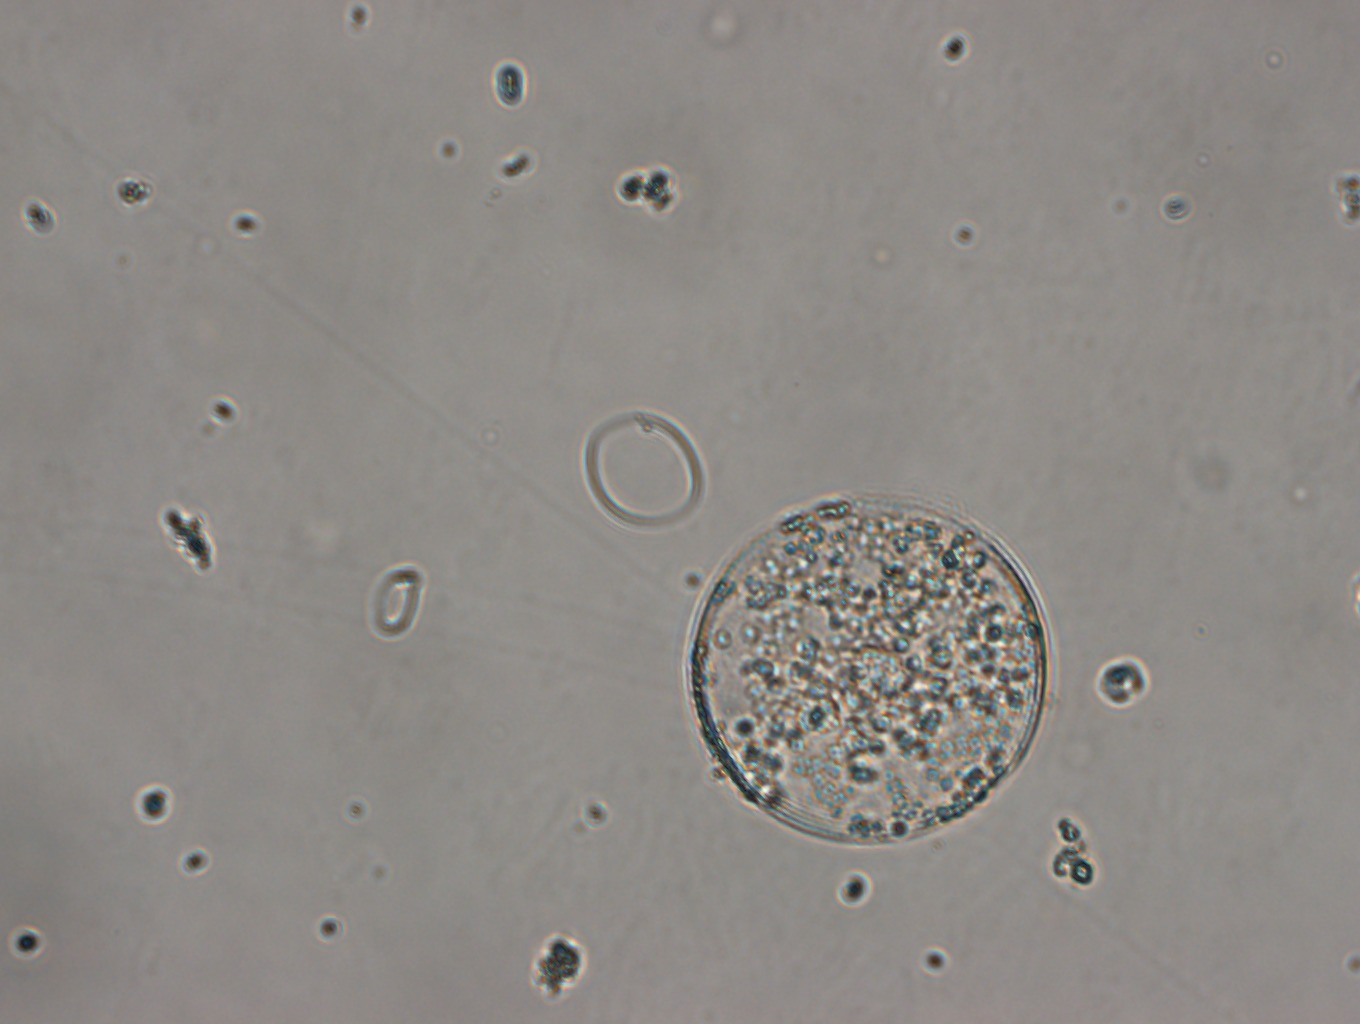coscinodiscus: (682, 496, 1061, 853)
